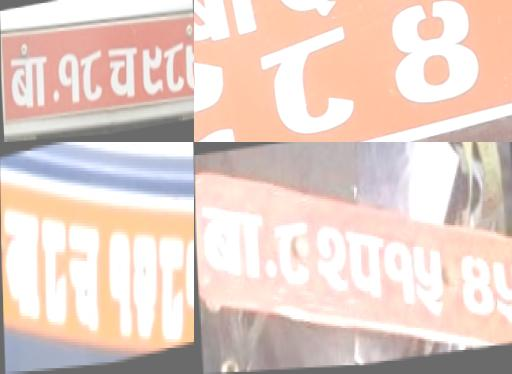1: (107, 223, 132, 344), (382, 235, 416, 317), (56, 45, 82, 111), (183, 228, 194, 348)
2: (130, 225, 160, 343), (312, 221, 350, 304)
4: (379, 0, 484, 115), (460, 251, 495, 331)
5: (409, 238, 452, 324), (488, 254, 512, 345)
6: (266, 0, 341, 27)
8: (248, 25, 361, 142), (270, 204, 314, 294), (38, 209, 70, 330), (157, 226, 186, 352), (78, 41, 105, 109), (162, 37, 187, 101)
9: (194, 54, 243, 142), (138, 34, 166, 102), (182, 35, 194, 99)
ba: (195, 189, 265, 300), (0, 199, 40, 330), (194, 0, 264, 52), (7, 46, 49, 114)
cha: (66, 205, 102, 338), (106, 36, 139, 107)
pa: (345, 225, 384, 315)
